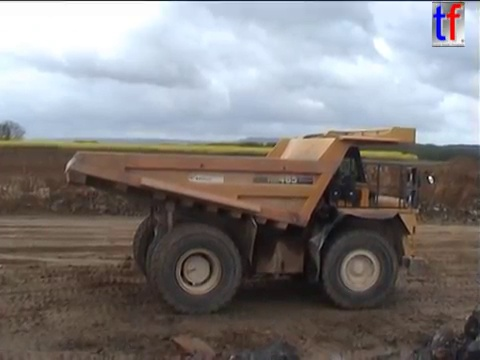truck: (62, 123, 436, 317)
